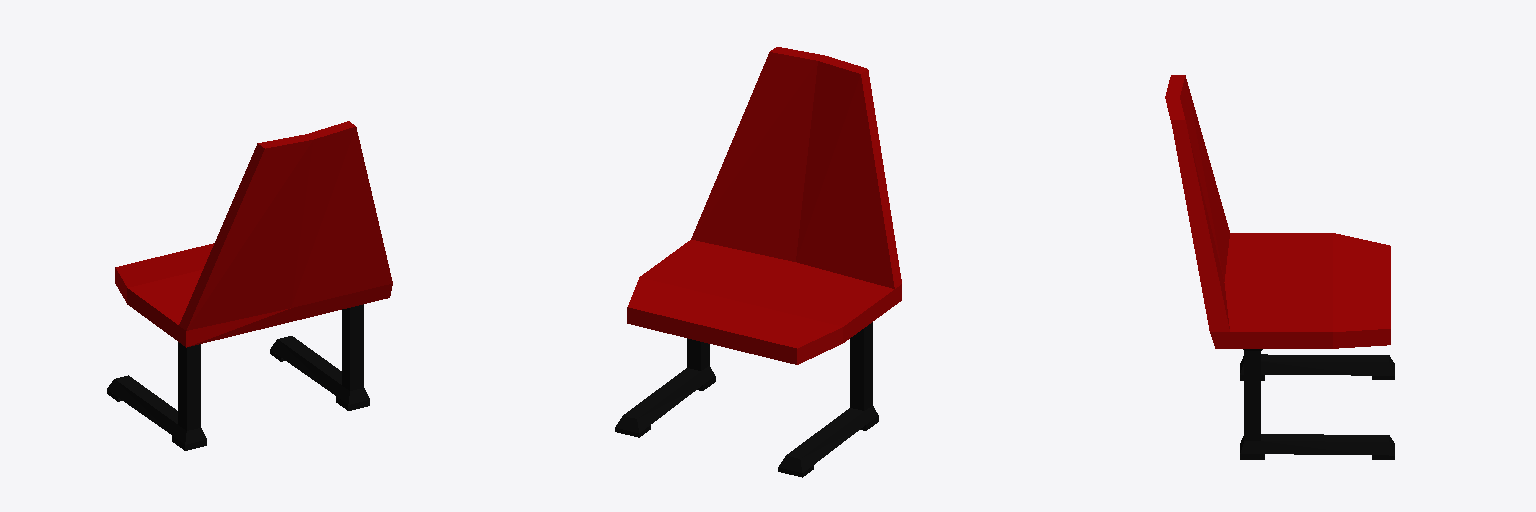
Rendered from Chair_Texture.obj.
3 views of the same model, side by side, from view 1: azimuth 30°, elevation 25°; view 2: azimuth 150°, elevation 25°; view 3: azimuth 270°, elevation 25° (orthographic).
Visible parts, largest first — view 1: Chair Seat, Leg_Left Chair, Chair Leg_Right; view 2: Chair Seat, Leg_Left Chair, Chair Leg_Right; view 3: Chair Seat, Chair Leg_Right, Leg_Left Chair.
Part boxes in pixels (x1,y1,x2,y2): Chair Seat: (115, 121, 392, 347); Leg_Left Chair: (107, 342, 206, 450); Chair Leg_Right: (270, 304, 369, 410); Chair Seat: (627, 47, 901, 364); Leg_Left Chair: (778, 322, 878, 477); Chair Leg_Right: (615, 338, 715, 437); Chair Seat: (1165, 75, 1390, 348); Chair Leg_Right: (1240, 349, 1394, 459); Leg_Left Chair: (1240, 354, 1394, 380).
Size of the model in its own units: 3.82 by 5.67 by 3.73.